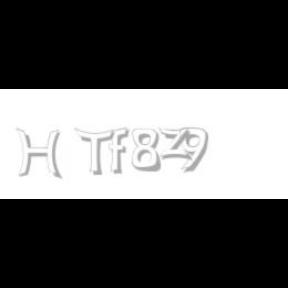8: (132, 128, 160, 172)
9: (180, 128, 208, 172)
H: (16, 128, 62, 180)
T: (74, 128, 114, 176)
f: (109, 128, 133, 174)
z: (158, 128, 194, 160)
